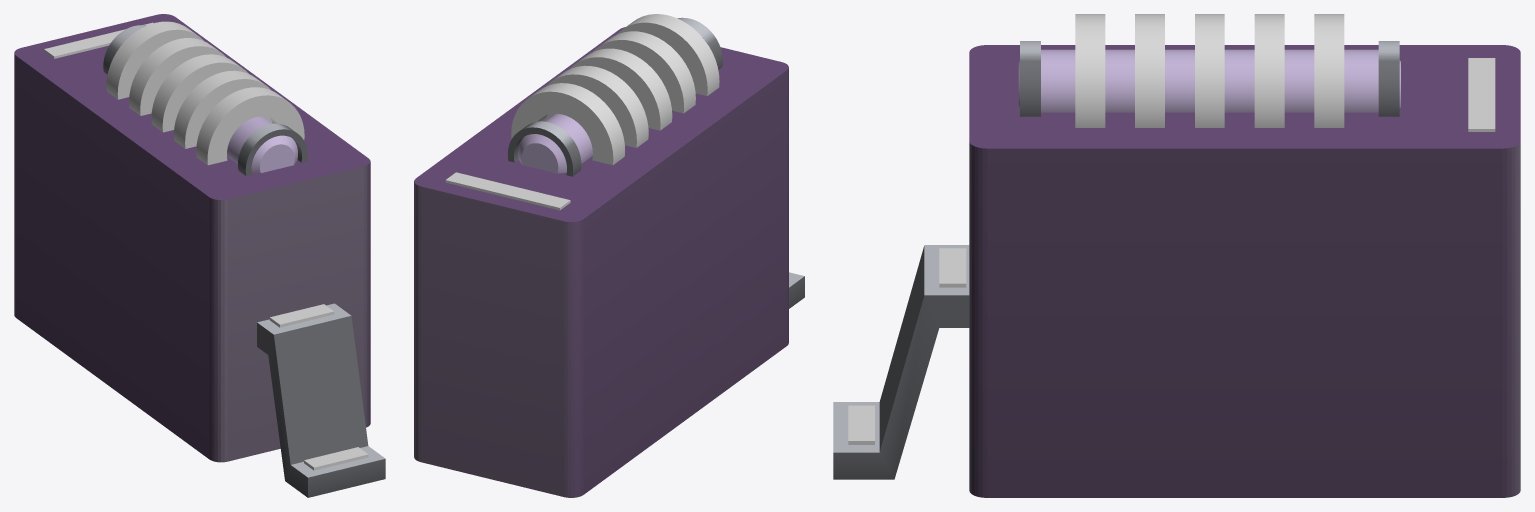
Rendered from pin_resonator.glb.
The picture shows the model from 3 angles, left to right: view 1: azimuth 30°, elevation 25°; view 2: azimuth 150°, elevation 25°; view 3: azimuth 270°, elevation 25°; orthographic projection. The views are drawn at different scales.
Visible parts, largest first — view 1: Korpus, Ring4, Ring3, Ring2, Ring0, Ring1, Glas, Licht, Seltenheit; view 2: Korpus, Ring0, Ring1, Ring2, Ring4, Ring3, Glas, Licht; view 3: Korpus, Glas, Ring0, Ring1, Ring4, Ring2, Ring3, Licht, Seltenheit.
Boxes of the visible parts, bbox=[...] form: Korpus: bbox=[14, 14, 385, 497]; Ring4: bbox=[196, 87, 304, 165]; Ring3: bbox=[174, 70, 272, 148]; Ring2: bbox=[151, 54, 248, 132]; Ring0: bbox=[106, 21, 203, 99]; Ring1: bbox=[129, 38, 226, 115]; Glas: bbox=[227, 116, 297, 173]; Licht: bbox=[44, 22, 368, 470]; Seltenheit: bbox=[269, 304, 334, 327]; Korpus: bbox=[414, 17, 804, 497]; Ring0: bbox=[511, 83, 624, 165]; Ring1: bbox=[545, 65, 648, 147]; Ring2: bbox=[569, 48, 672, 130]; Ring4: bbox=[616, 14, 719, 95]; Ring3: bbox=[593, 31, 695, 113]; Glas: bbox=[518, 113, 592, 173]; Licht: bbox=[445, 172, 570, 210]; Korpus: bbox=[833, 41, 1520, 497]; Glas: bbox=[1018, 49, 1400, 112]; Ring0: bbox=[1314, 14, 1344, 127]; Ring1: bbox=[1254, 14, 1284, 127]; Ring4: bbox=[1075, 14, 1105, 127]; Ring2: bbox=[1195, 14, 1224, 127]; Ring3: bbox=[1135, 14, 1164, 127]; Licht: bbox=[848, 58, 1495, 444]; Seltenheit: bbox=[939, 248, 966, 287].
Bounding box in the file's own units: 0.82 × 1.6 × 2.3.
